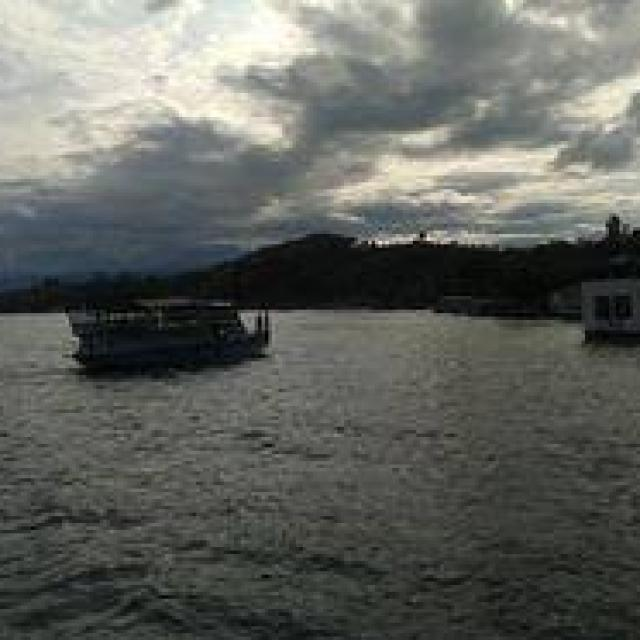houseboat: (57, 274, 275, 382)
